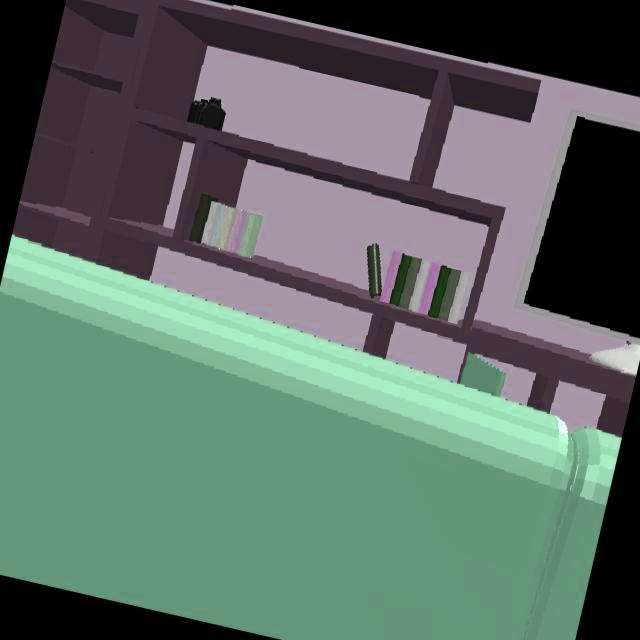book: (365, 245, 468, 324), (184, 194, 263, 257)
bookshelf: (11, 0, 616, 399)
monitor: (521, 112, 640, 379)
sofa: (0, 238, 621, 640)
